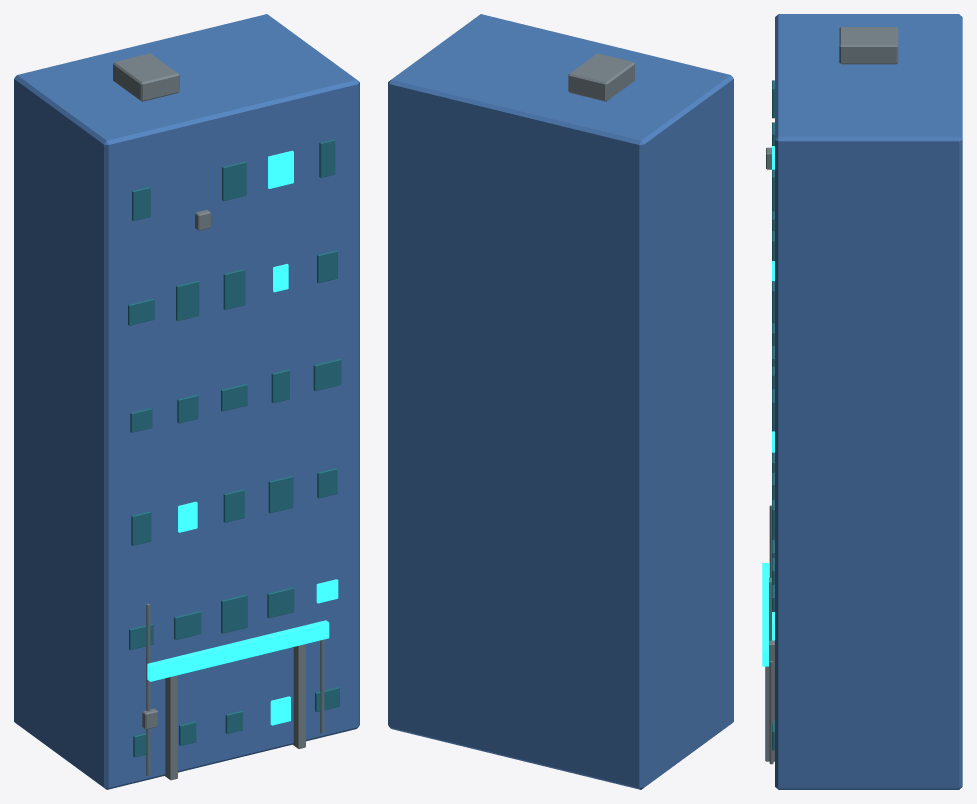
File: building_014_seed11.glb
3 renders of one model, left to right at view 1: azimuth 30°, elevation 25°; view 2: azimuth 150°, elevation 25°; view 3: azimuth 270°, elevation 25°, orthographic.
Parts seen in each view (by area): view 1: building_014_seed11; view 2: building_014_seed11; view 3: building_014_seed11.
Part boxes in pixels (x1,y1,x2,y2): building_014_seed11: [14, 14, 359, 789]; building_014_seed11: [388, 14, 733, 789]; building_014_seed11: [762, 14, 962, 789].
Bounding box in the file's own units: 6.87 × 17.15 × 4.63.
